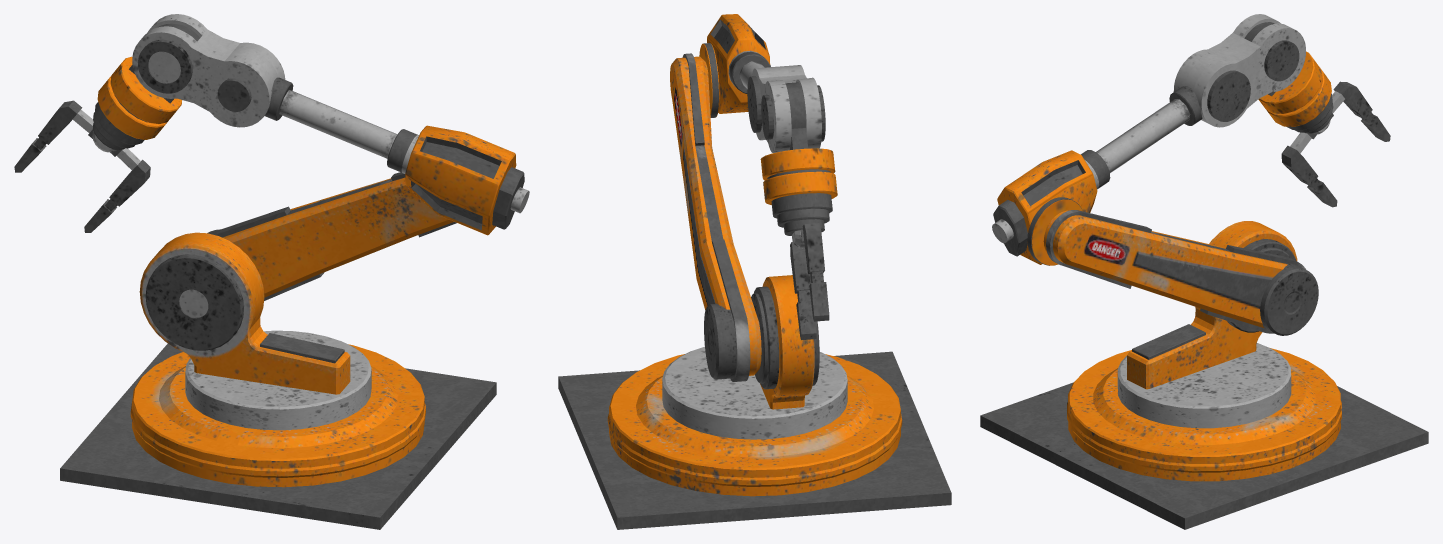
The model's file is jixiebi.gltf.
The picture shows the model from 3 angles, left to right: view 1: azimuth 30°, elevation 25°; view 2: azimuth 150°, elevation 25°; view 3: azimuth 270°, elevation 25°; orthographic projection. The views are drawn at different scales.
Parts seen in each view (by area): view 1: 机械臂08; view 2: 机械臂08; view 3: 机械臂08.
Part boxes in pixels (box(x1,y1,x2,y2)): 机械臂08: box(14, 14, 529, 529); 机械臂08: box(558, 14, 951, 529); 机械臂08: box(980, 14, 1428, 529).
Size of the model in its own units: 16.05 by 15.03 by 16.05.
Materials: 1 (1 with a texture image).
